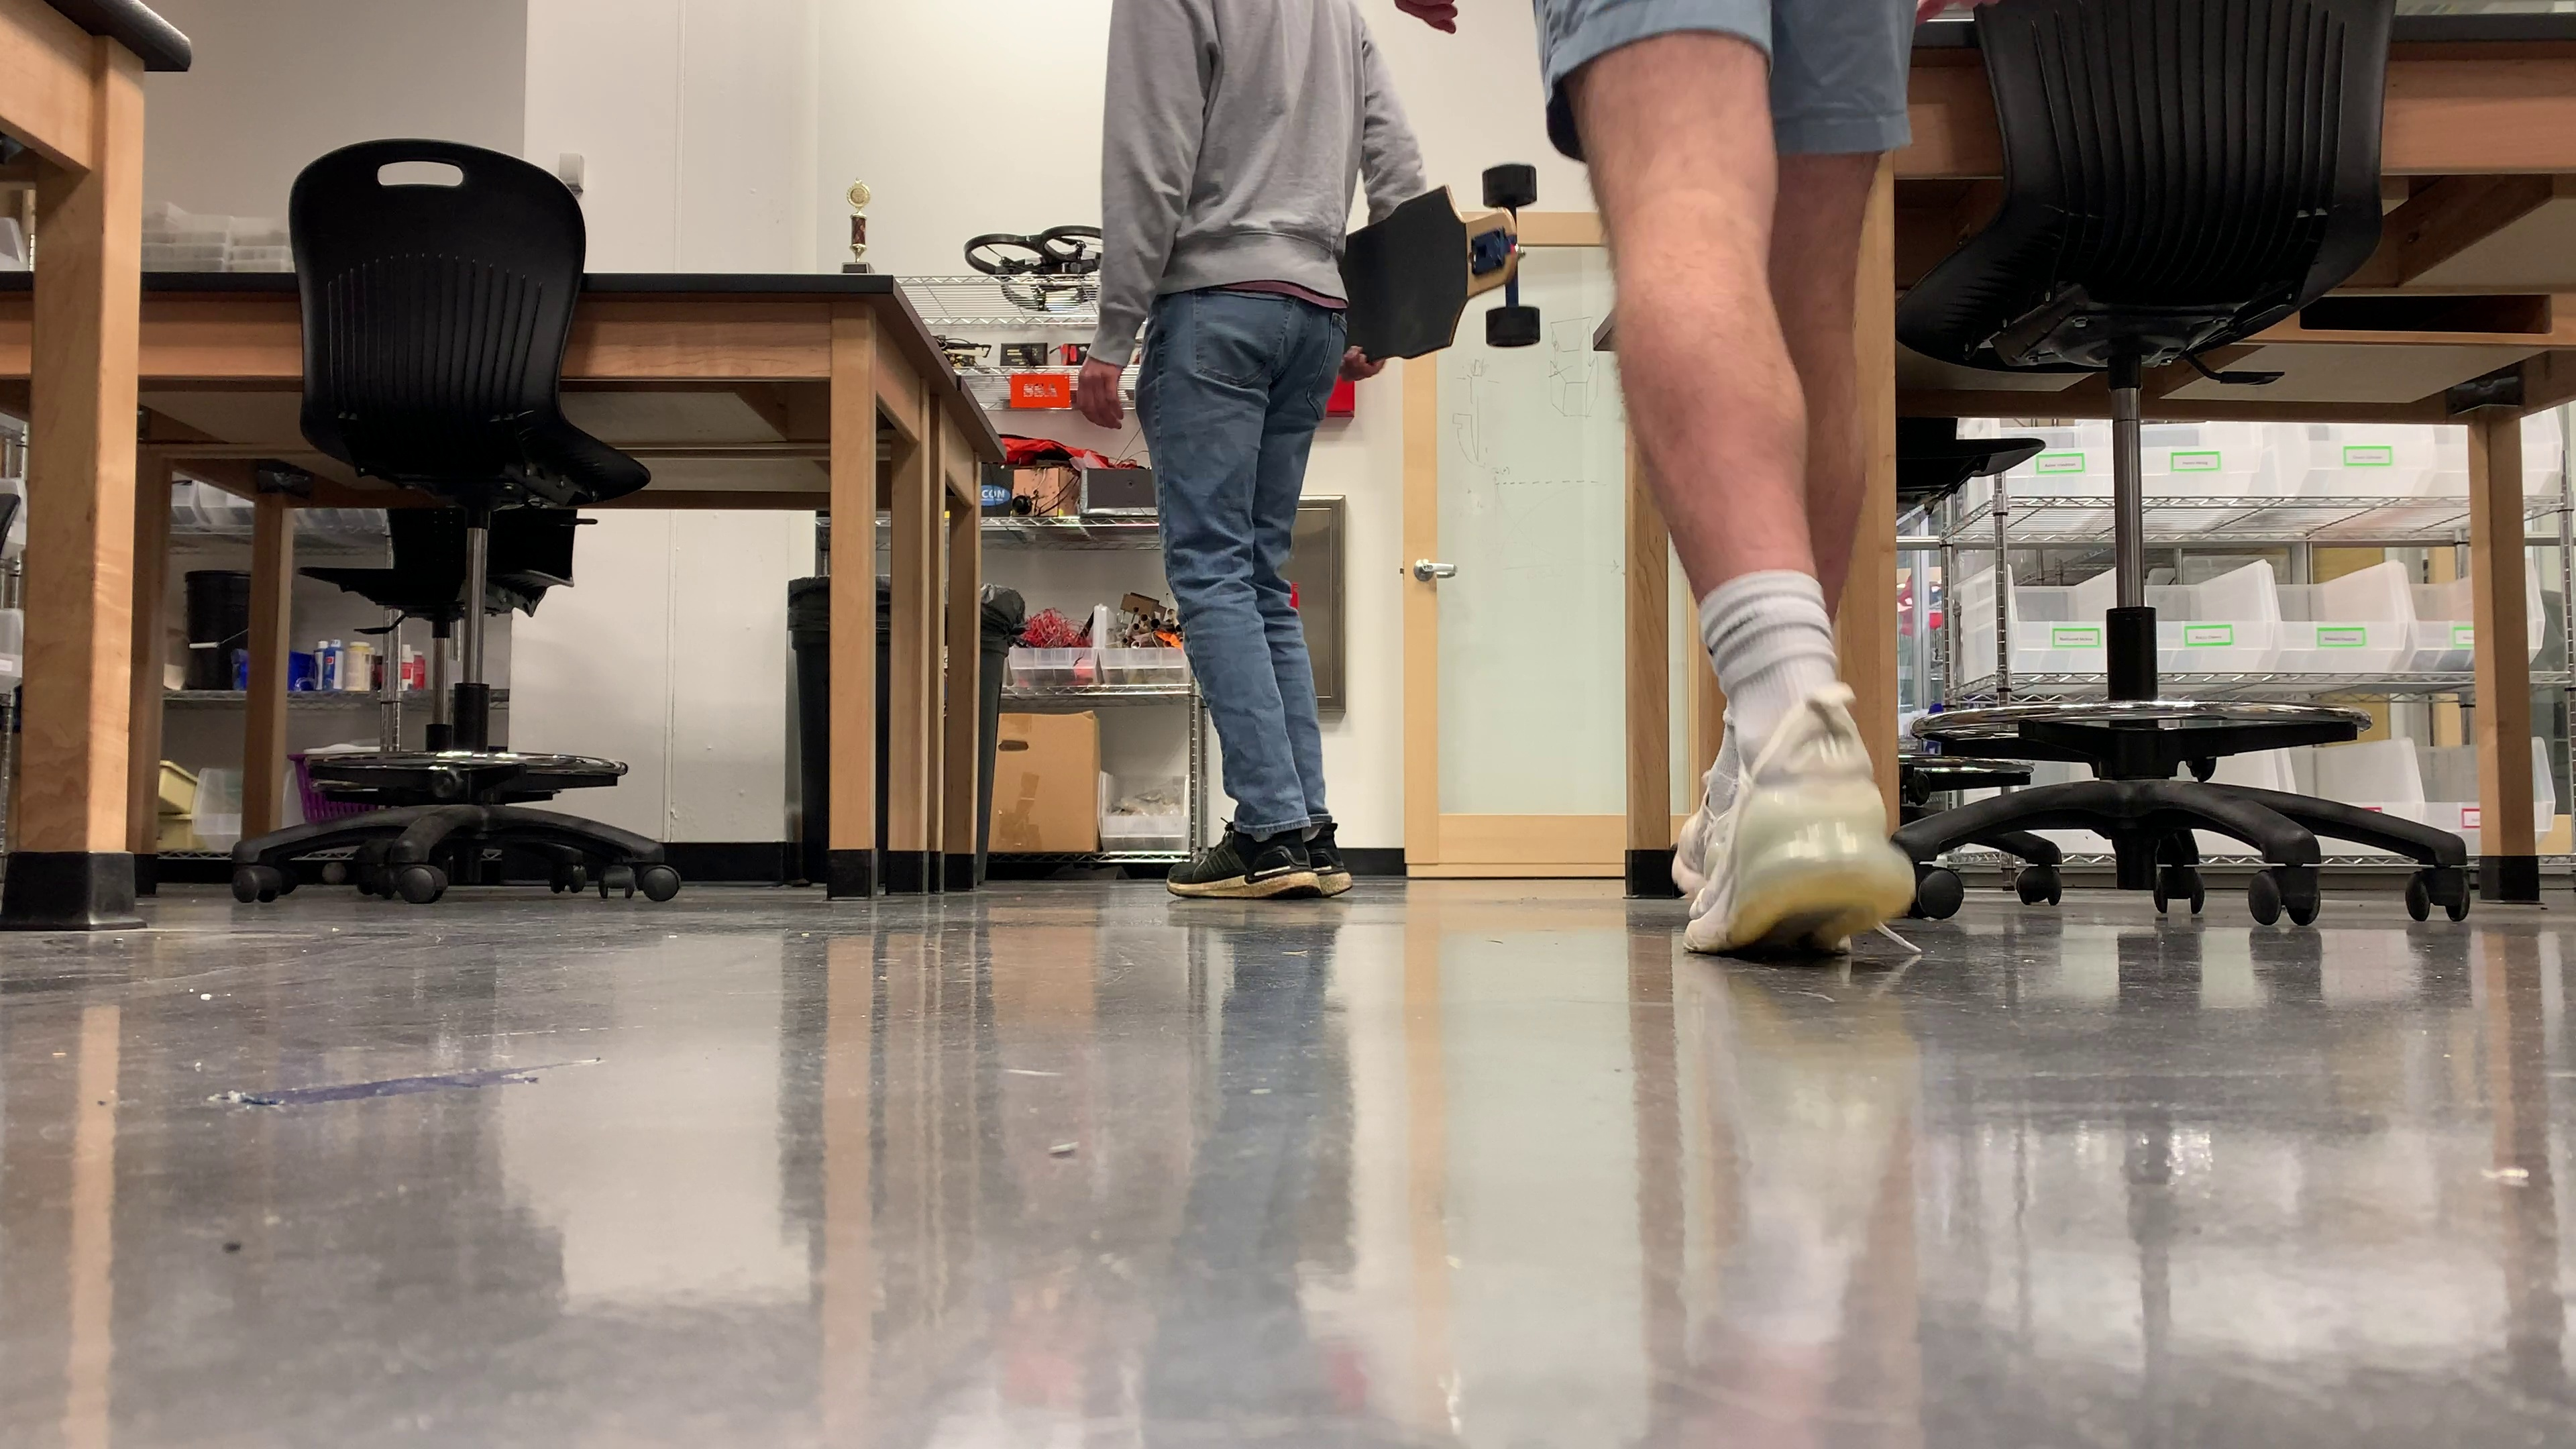shoe: (1684, 694, 1916, 955), (1166, 826, 1318, 901)
